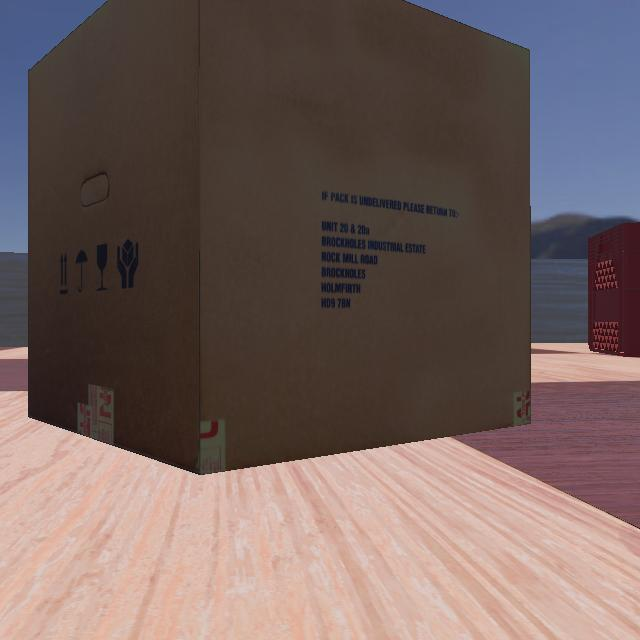cardboard-box: (1, 0, 640, 482)
plastic-crate: (575, 213, 639, 359)
